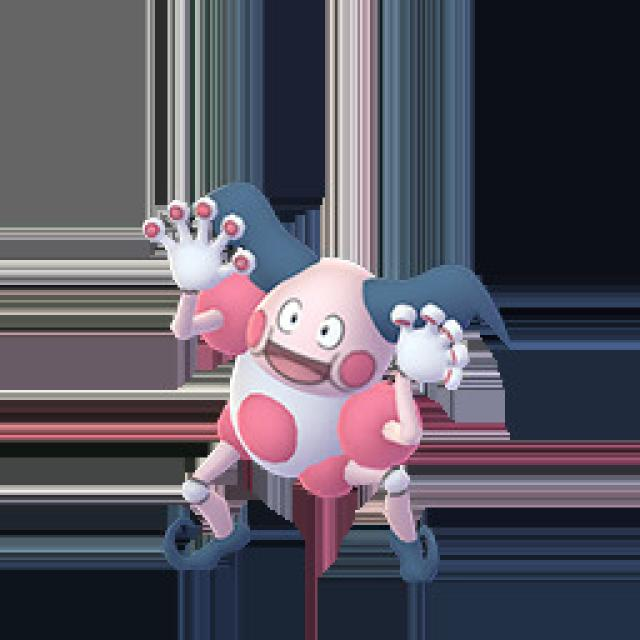MrMime: (160, 190, 480, 578)
